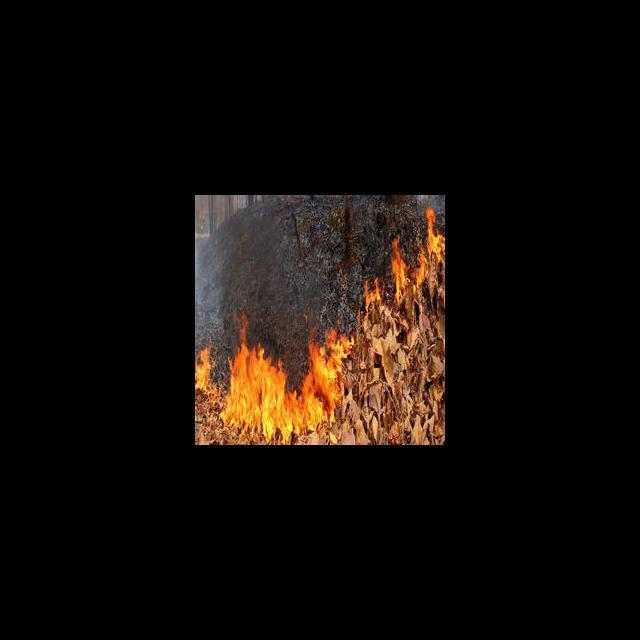Fire: (218, 310, 357, 442), (362, 236, 422, 310), (424, 206, 445, 268), (196, 342, 215, 397)
